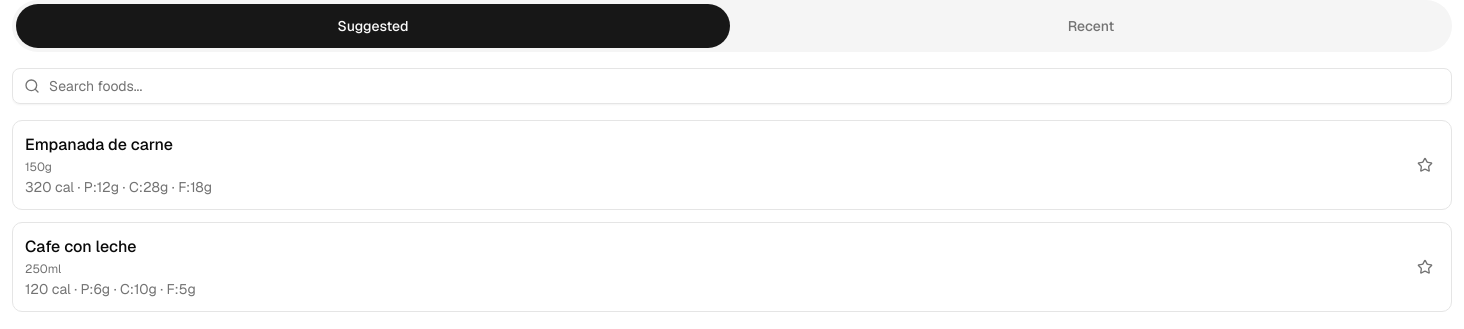
Scenario: QuickSelect › FOO-664: search SWR error state › shows error message when search fetch fails
Expected: the text "Empanada de carne" is shown, [25,134,173,155]
Type "emp" into the field with placeholder "Search foods..." at (732, 86), box [12,68,1452,104]
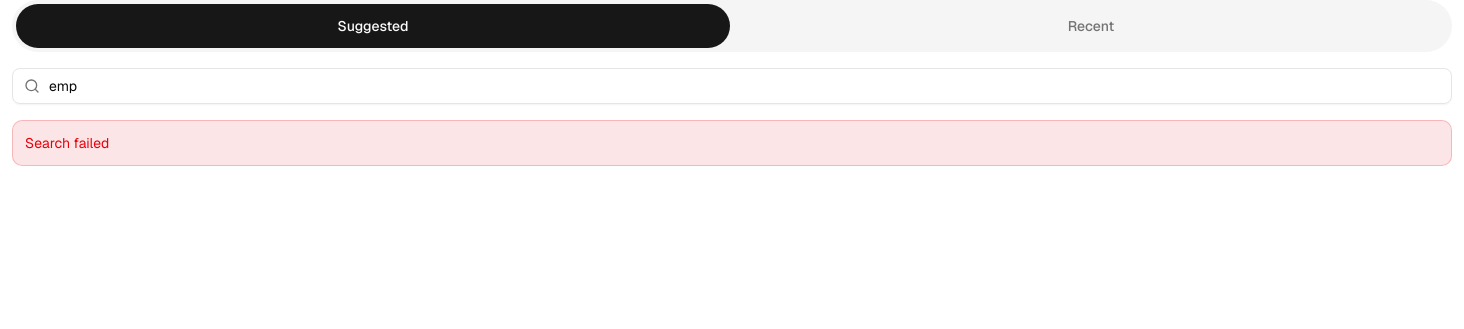
Expected: the message "Search failed" is shown, [12,120,1452,166]
Expected: the text "Search failed" is shown, [25,134,109,152]
